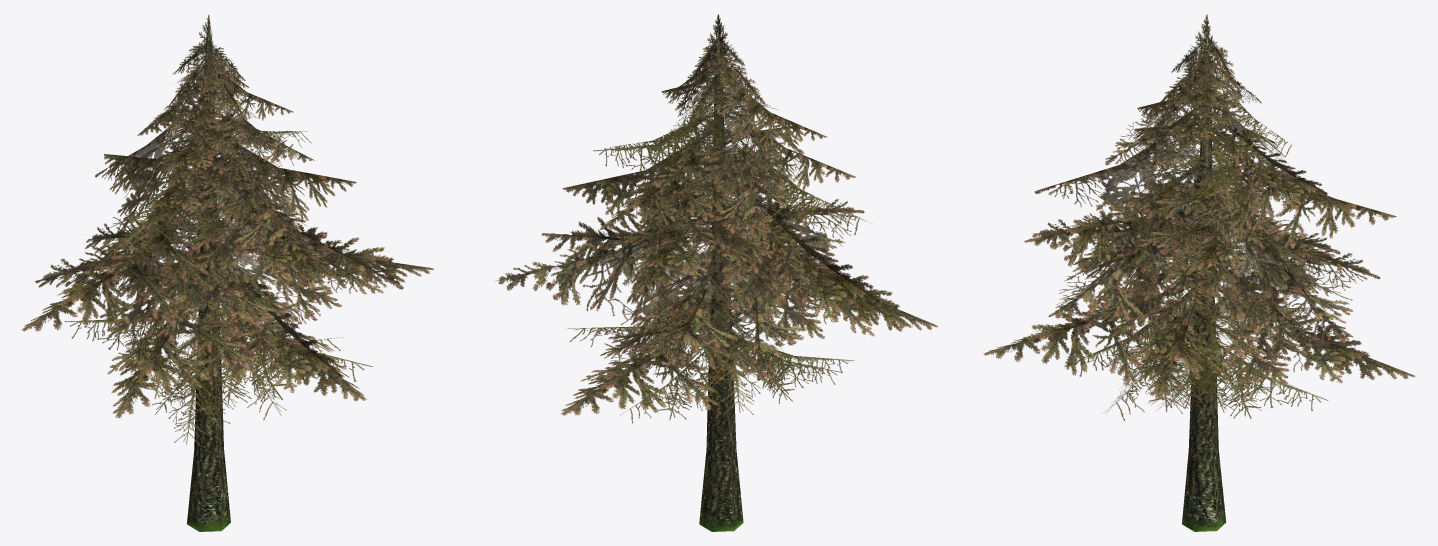
The model's file is tree4_7s.glb.
The picture shows the model from 3 angles, left to right: view 1: azimuth 30°, elevation 25°; view 2: azimuth 150°, elevation 25°; view 3: azimuth 270°, elevation 25°; orthographic projection.
Parts seen in each view (by area): view 1: tree4_7s-col; view 2: tree4_7s-col; view 3: tree4_7s-col.
Boxes of the visible parts, box(x1,y1,x2,y2) form: tree4_7s-col: box(22, 15, 433, 531); tree4_7s-col: box(495, 14, 938, 531); tree4_7s-col: box(983, 14, 1415, 531).
Bounding box in the file's own units: 13.2 × 15.82 × 12.61.
4 materials, 4 textured.
